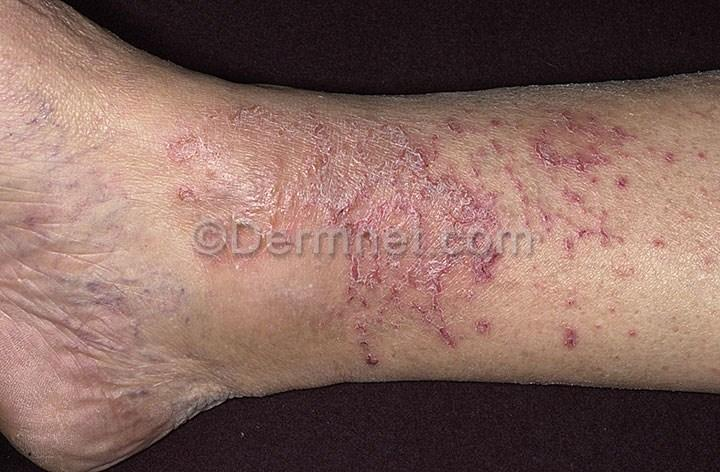Eczema: (531, 128, 594, 216), (367, 171, 422, 250), (317, 112, 381, 173), (311, 172, 370, 232), (436, 197, 491, 261), (368, 110, 426, 167), (274, 293, 347, 338), (269, 113, 323, 168), (591, 204, 647, 257), (210, 177, 269, 227), (180, 132, 233, 184), (419, 136, 476, 183), (230, 110, 281, 158), (351, 302, 415, 339), (473, 111, 523, 158), (264, 226, 337, 258), (407, 177, 484, 207), (491, 220, 541, 266), (274, 257, 336, 293), (588, 142, 633, 191), (416, 314, 459, 365), (200, 248, 272, 278), (487, 161, 526, 215), (470, 255, 514, 301), (340, 232, 371, 297), (262, 178, 312, 218), (541, 209, 584, 255), (647, 124, 688, 171), (411, 285, 460, 324), (172, 185, 220, 224), (346, 328, 389, 371), (659, 191, 704, 231), (418, 210, 449, 261), (595, 108, 635, 147), (417, 254, 455, 294), (689, 165, 720, 214), (458, 303, 501, 338), (365, 261, 412, 292), (206, 220, 248, 254), (546, 316, 582, 350), (549, 103, 586, 133), (545, 278, 582, 308), (686, 242, 716, 278), (450, 253, 476, 293), (645, 230, 675, 264), (353, 278, 389, 305), (601, 259, 628, 293), (690, 142, 714, 176), (623, 309, 649, 335), (660, 317, 680, 349), (694, 361, 720, 382), (610, 299, 619, 317)
